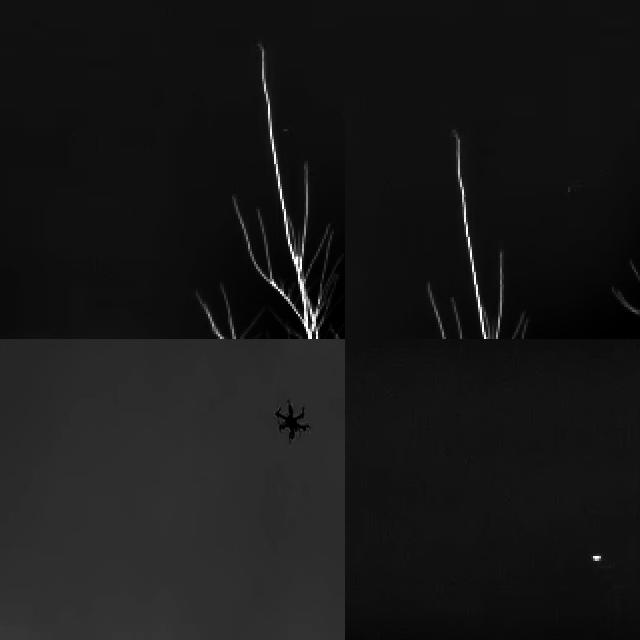0: (552, 179, 576, 207), (273, 122, 295, 142)
1: (582, 546, 606, 571)
drone: (272, 393, 307, 448)
